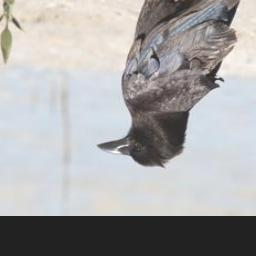Crow: (95, 0, 252, 170)
